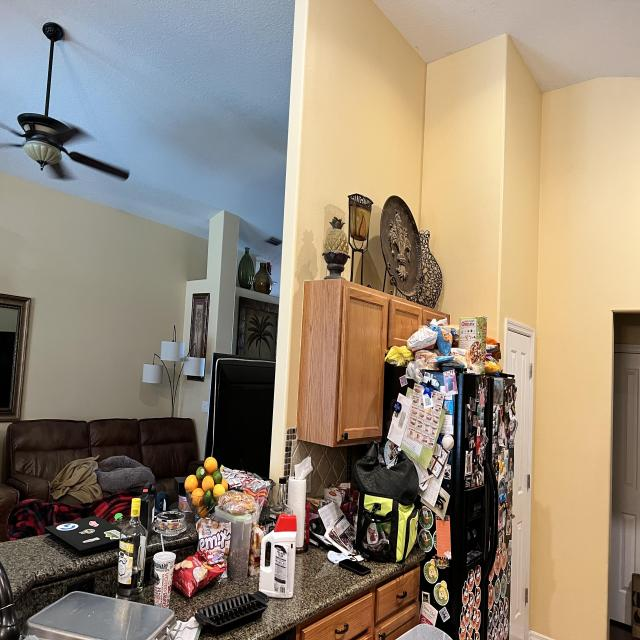Appliance_Fridge: (383, 317, 516, 640)
Cabinet_Flat: (289, 567, 421, 640)
Cabinet_Shaker: (297, 279, 449, 449)
Countertop_Granite: (167, 549, 427, 640), (0, 535, 161, 640)
